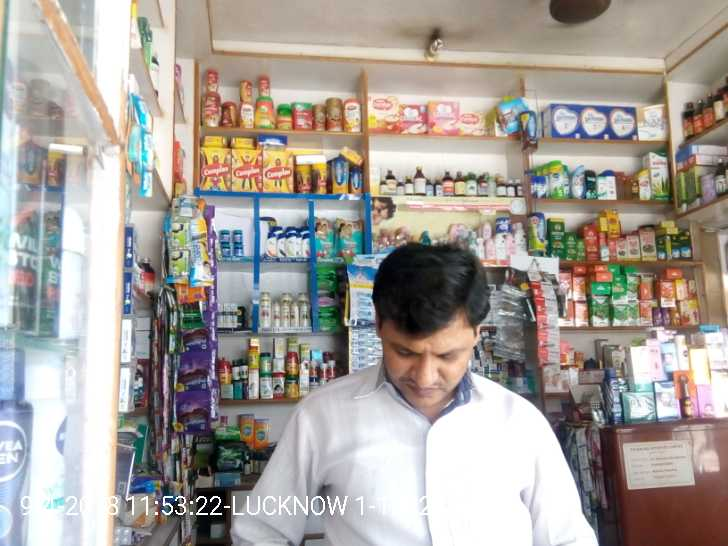gillete: (346, 267, 371, 321), (190, 223, 211, 286), (131, 91, 152, 128), (138, 132, 157, 164), (139, 169, 154, 194)
